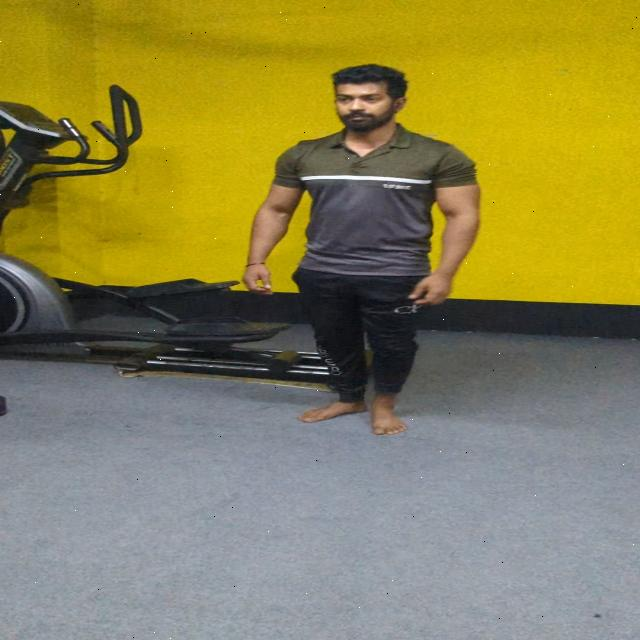Normal_Lunges: (59, 73, 640, 490)
